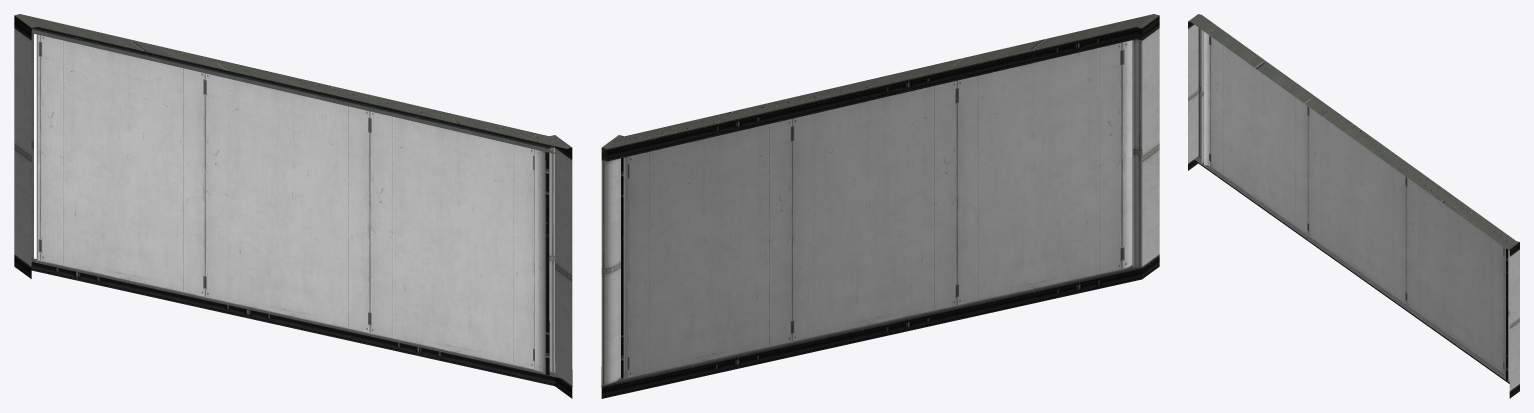
Rendered from Neon_Wall_Stairs_L.FBX.
3 views of the same model, side by side, from view 1: azimuth 30°, elevation 25°; view 2: azimuth 150°, elevation 25°; view 3: azimuth 330°, elevation 25° (orthographic). The views are drawn at different scales.
Parts seen in each view (by area): view 1: Neon_Wall_Stairs_L; view 2: Neon_Wall_Stairs_L; view 3: Neon_Wall_Stairs_L.
Part boxes in pixels (<box>): Neon_Wall_Stairs_L: <box>14,14,572,398</box>; Neon_Wall_Stairs_L: <box>601,14,1159,398</box>; Neon_Wall_Stairs_L: <box>1188,14,1519,398</box>.
Bounding box in the file's own units: 9 × 8 × 0.5001.
